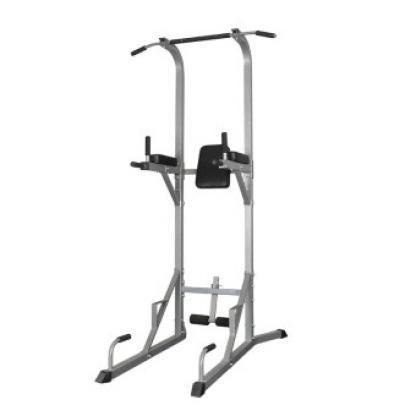chinning dipping: (95, 28, 290, 397)
